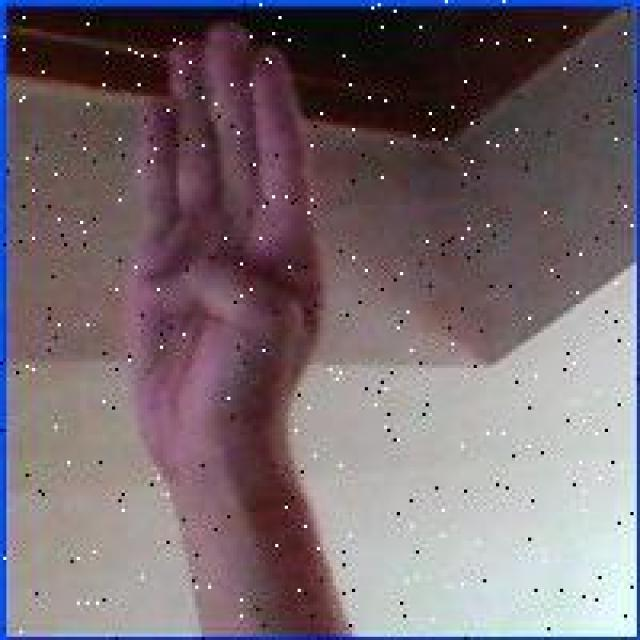B: (123, 12, 325, 494)
